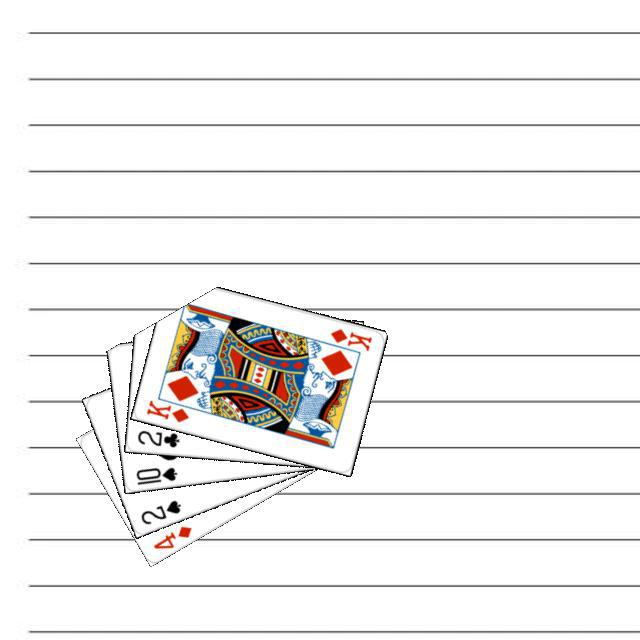10s: (131, 462, 179, 486)
2c: (133, 426, 181, 449)
2s: (136, 495, 182, 526)
4d: (148, 521, 193, 551)
Kd: (141, 395, 190, 424), (325, 324, 374, 352)
